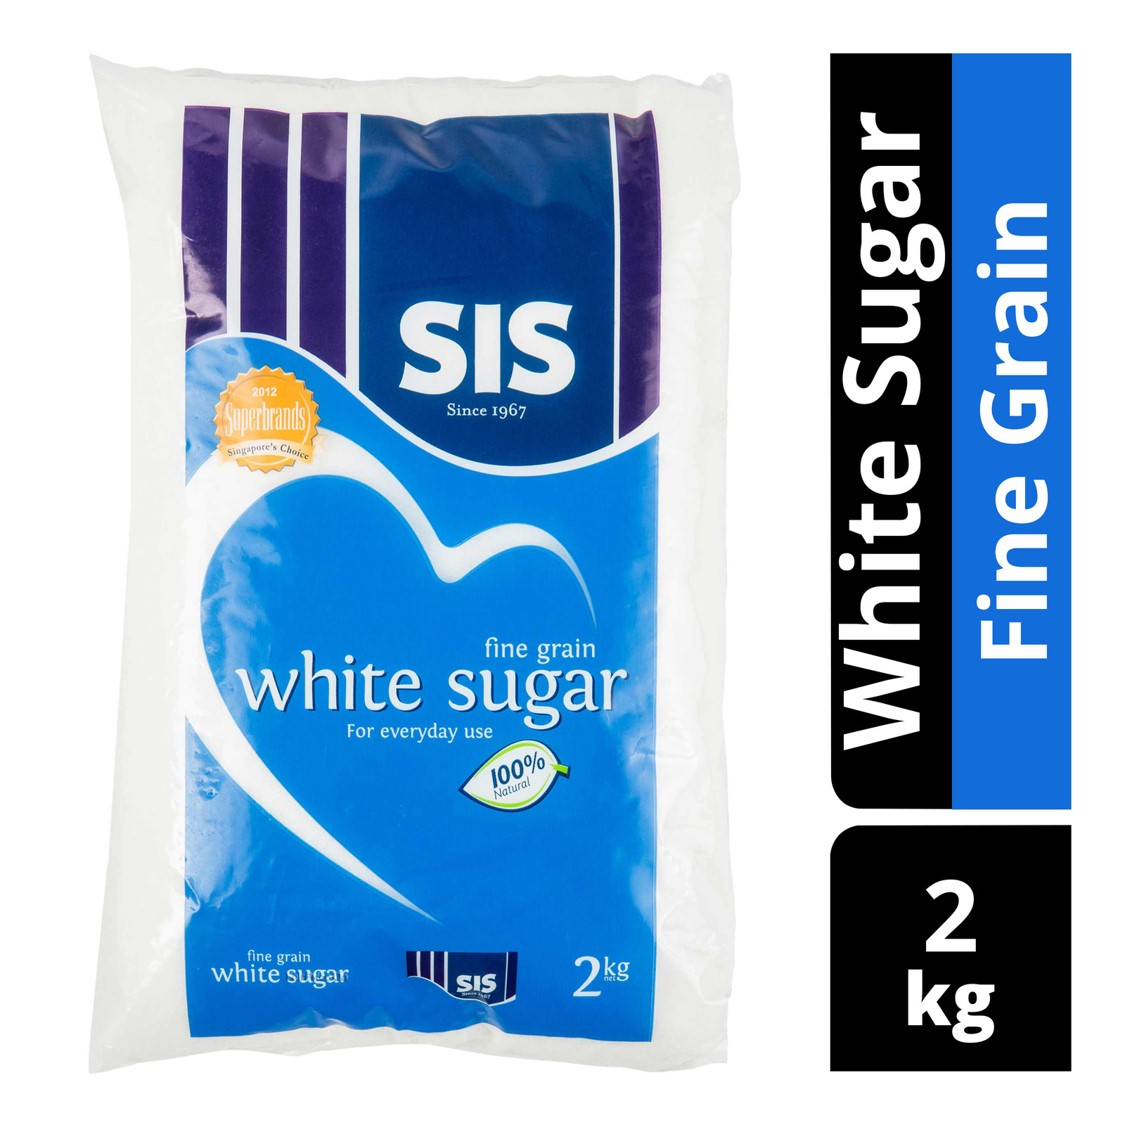sis white sugar: (81, 42, 737, 1076)
